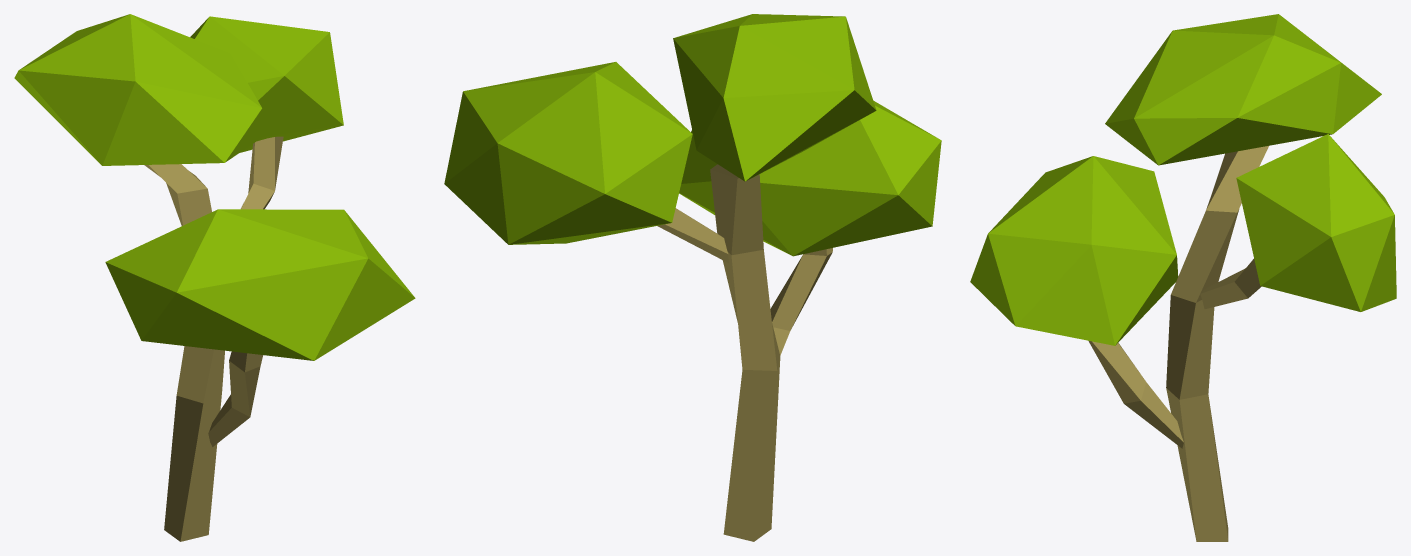
File: Tree_Summer_8.fbx
3 renders of one model, left to right at view 1: azimuth 30°, elevation 25°; view 2: azimuth 150°, elevation 25°; view 3: azimuth 270°, elevation 25°, orthographic. The views are drawn at different scales.
Visible parts, largest first — view 1: Leaves, Leaves.002, Leaves.001, Trunk, Trunk.002, Trunk.001; view 2: Leaves.001, Leaves.002, Leaves, Trunk, Trunk.002, Trunk.001; view 3: Leaves, Leaves.002, Leaves.001, Trunk, Trunk.002, Trunk.001.
Boxes of the visible parts, box(x1,y1,x2,y2) form: Leaves: box(105, 209, 415, 360); Leaves.002: box(14, 14, 273, 165); Leaves.001: box(190, 16, 343, 152); Trunk: box(144, 164, 224, 541); Trunk.002: box(208, 351, 263, 446); Trunk.001: box(241, 136, 283, 209); Leaves.001: box(444, 62, 692, 244); Leaves.002: box(673, 14, 876, 181); Leaves: box(679, 100, 941, 256); Trunk: box(710, 164, 780, 541); Trunk.002: box(770, 248, 832, 355); Trunk.001: box(657, 208, 728, 263); Leaves: box(970, 156, 1178, 345); Leaves.002: box(1105, 14, 1381, 165); Leaves.001: box(1236, 134, 1396, 311); Trunk: box(1166, 146, 1268, 541); Trunk.002: box(1088, 340, 1183, 448); Trunk.001: box(1200, 259, 1261, 308).
Bounding box in the file's own units: 225 × 316 × 251.
